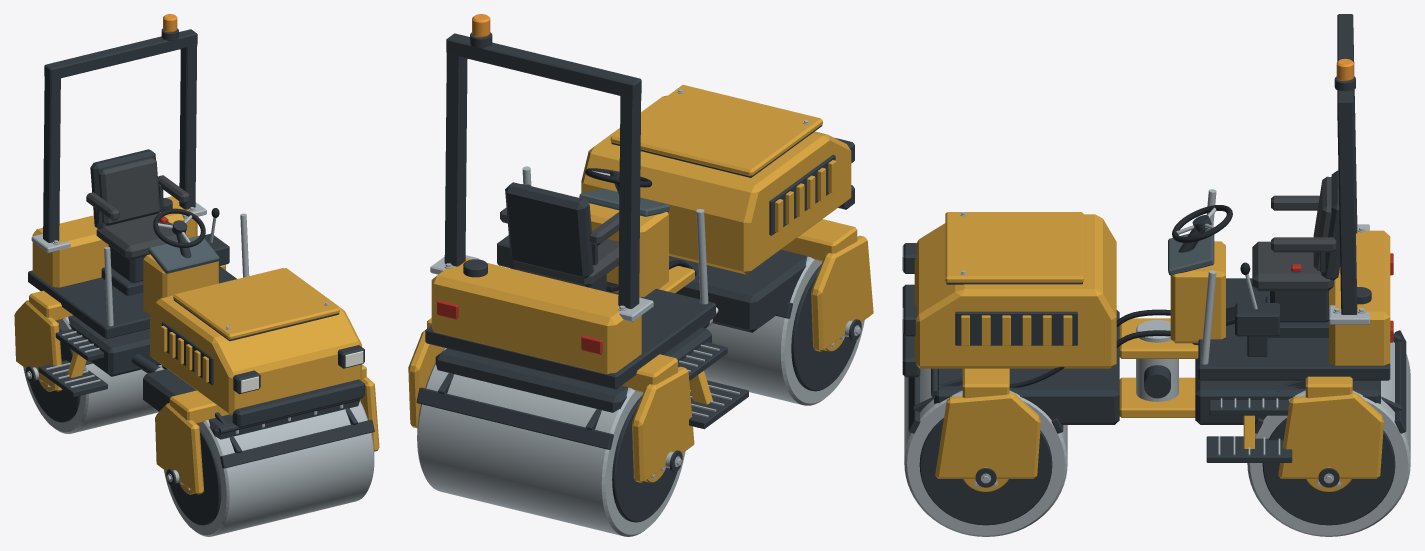
The model's file is city-tandem-road-roller.glb.
The picture shows the model from 3 angles, left to right: view 1: azimuth 30°, elevation 25°; view 2: azimuth 150°, elevation 25°; view 3: azimuth 270°, elevation 25°; orthographic projection. The views are drawn at different scales.
Parts seen in each view (by area): view 1: Assembly | Warm industrial ochre enamel, Assembly | Graphite steel frame, Assembly | Satin plated steel, Assembly | Dark upholstery, Assembly | Blank control face, Assembly | Charcoal rubber, Assembly | Opaque unlit worklamp lens; view 2: Assembly | Warm industrial ochre enamel, Assembly | Graphite steel frame, Assembly | Satin plated steel, Assembly | Dark upholstery, Assembly | Blank control face, Assembly | Charcoal rubber, Assembly | Red unlit marker and stop; view 3: Assembly | Warm industrial ochre enamel, Assembly | Graphite steel frame, Assembly | Satin plated steel, Assembly | Dark upholstery, Assembly | Charcoal rubber, Assembly | Blank control face.
Boxes of the visible parts, <box> form: Assembly | Warm industrial ochre enamel: <box>14,196,379,494</box>; Assembly | Graphite steel frame: <box>25,28,374,525</box>; Assembly | Satin plated steel: <box>23,202,374,536</box>; Assembly | Dark upholstery: <box>86,157,189,259</box>; Assembly | Blank control face: <box>148,235,219,273</box>; Assembly | Charcoal rubber: <box>153,208,219,247</box>; Assembly | Opaque unlit worklamp lens: <box>241,351,363,392</box>; Assembly | Warm industrial ochre enamel: <box>408,84,873,482</box>; Assembly | Graphite steel frame: <box>416,32,861,522</box>; Assembly | Satin plated steel: <box>417,89,864,536</box>; Assembly | Dark upholstery: <box>500,184,619,287</box>; Assembly | Blank control face: <box>579,188,669,216</box>; Assembly | Charcoal rubber: <box>527,168,696,291</box>; Assembly | Red unlit marker and stop: <box>437,300,602,354</box>; Assembly | Warm industrial ochre enamel: <box>914,212,1390,491</box>; Assembly | Graphite steel frame: <box>902,14,1406,525</box>; Assembly | Satin plated steel: <box>904,189,1410,536</box>; Assembly | Dark upholstery: <box>1252,176,1336,291</box>; Assembly | Charcoal rubber: <box>1009,205,1305,388</box>; Assembly | Blank control face: <box>1168,228,1214,275</box>.
Bounding box in the file's own units: 1.44 × 2.5 × 2.49.
